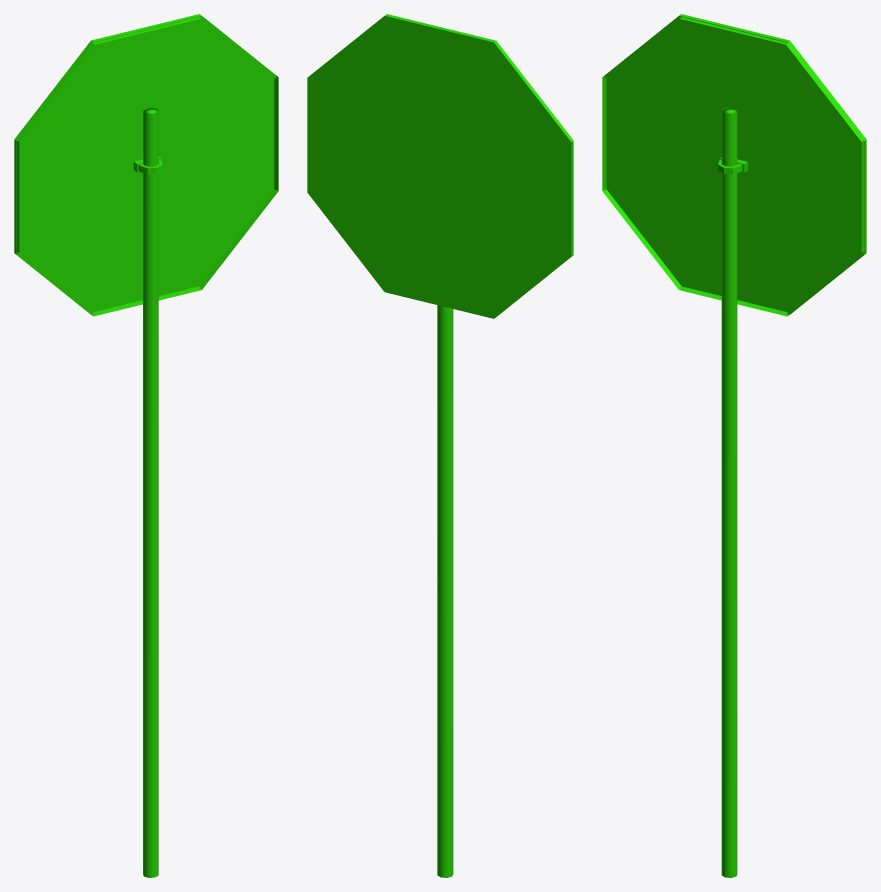
File: Road_Sign_Base_05_Lod0.fbx
3 renders of one model, left to right at view 1: azimuth 30°, elevation 25°; view 2: azimuth 150°, elevation 25°; view 3: azimuth 330°, elevation 25°, orthographic.
Parts seen in each view (by area): view 1: Road_Sign_Base_05_Lod0; view 2: Road_Sign_Base_05_Lod0; view 3: Road_Sign_Base_05_Lod0.
Boxes of the visible parts, <box> form: Road_Sign_Base_05_Lod0: <box>14,14,278,877</box>; Road_Sign_Base_05_Lod0: <box>307,14,573,877</box>; Road_Sign_Base_05_Lod0: <box>602,14,866,877</box>.
Size of the model in its own units: 62.31 by 192 by 4.86.
